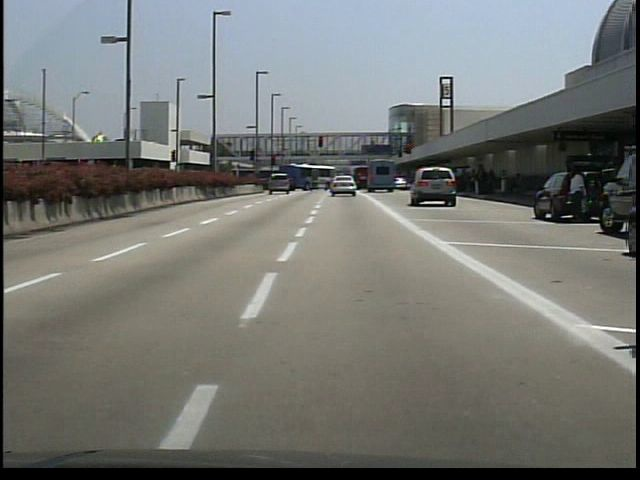person: (567, 169, 590, 225)
